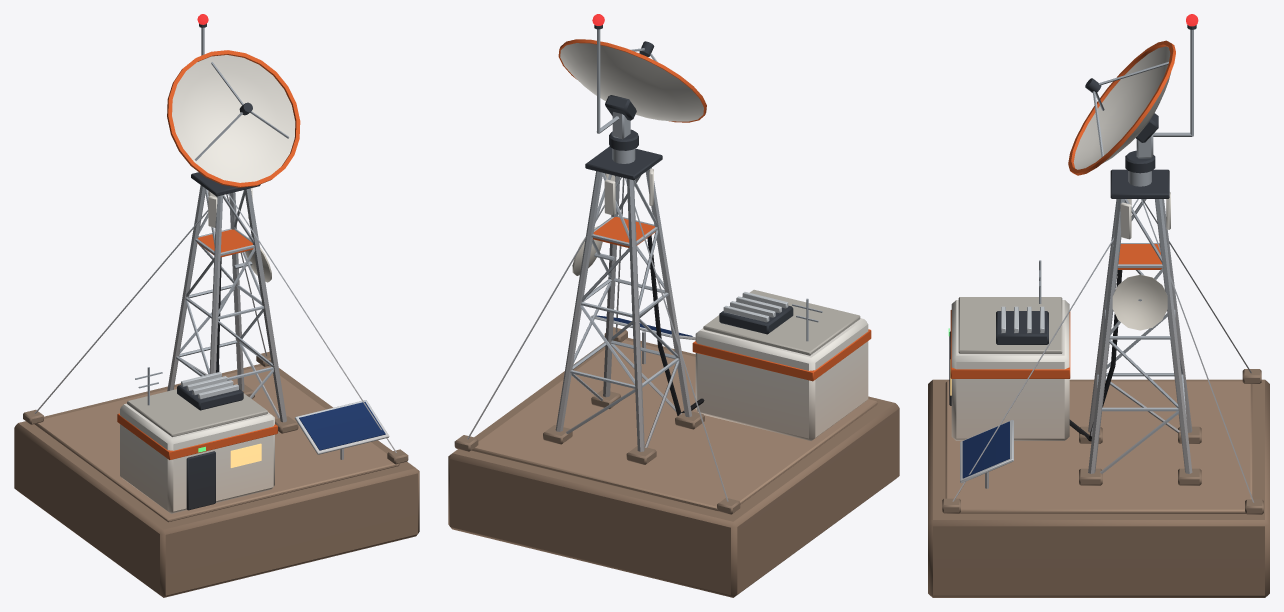
File: comms_tower.glb
3 views of the same model, side by side, from view 1: azimuth 30°, elevation 25°; view 2: azimuth 150°, elevation 25°; view 3: azimuth 270°, elevation 25° (orthographic). The views are drawn at different scales.
Visible parts, largest first — view 1: comms_tower, spin_dish; view 2: comms_tower, spin_dish; view 3: comms_tower, spin_dish.
Boxes of the visible parts, x1,y1,x2,y2 form: comms_tower: (14,172,419,597); spin_dish: (167,14,300,187); comms_tower: (448,146,899,597); spin_dish: (558,14,706,150); comms_tower: (928,169,1269,597); spin_dish: (1068,14,1198,175).
Size of the model in its own units: 2.9 by 4.94 by 2.9.
